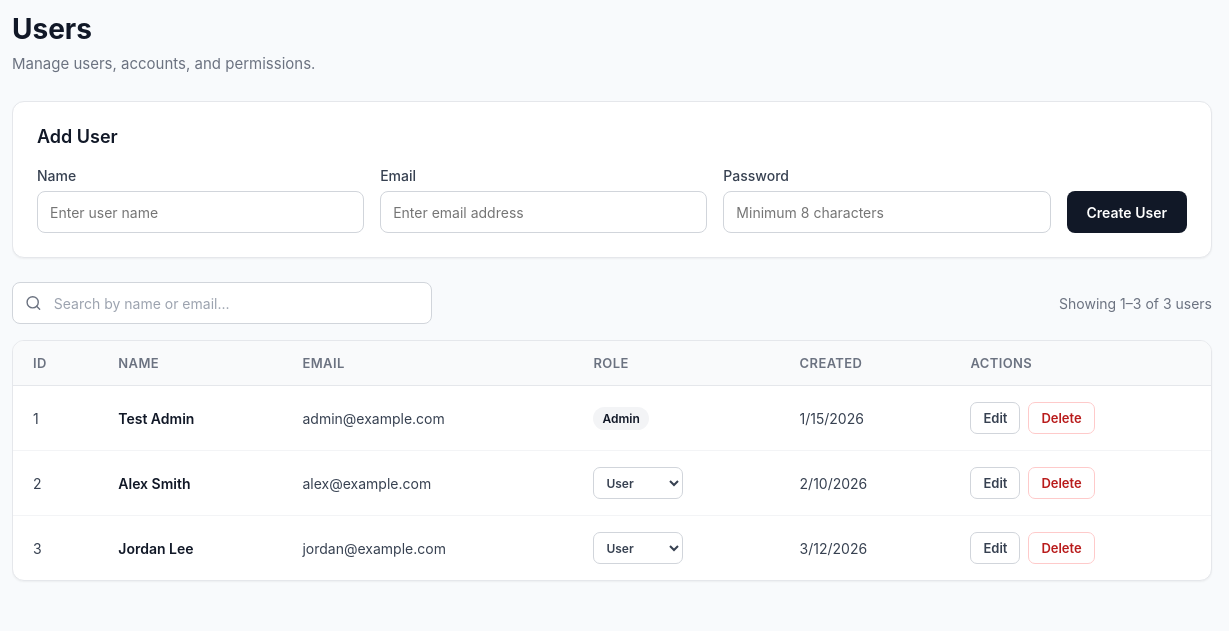
Users page › changes another user role after confirmation
This screenshot has width=1229, height=631.
Expected: the text "Alex Smith" is shown, [98,450,282,516]
Select "Admin" in the dropdown named "change role for alex smith" at (638, 483), box [593,467,683,499]
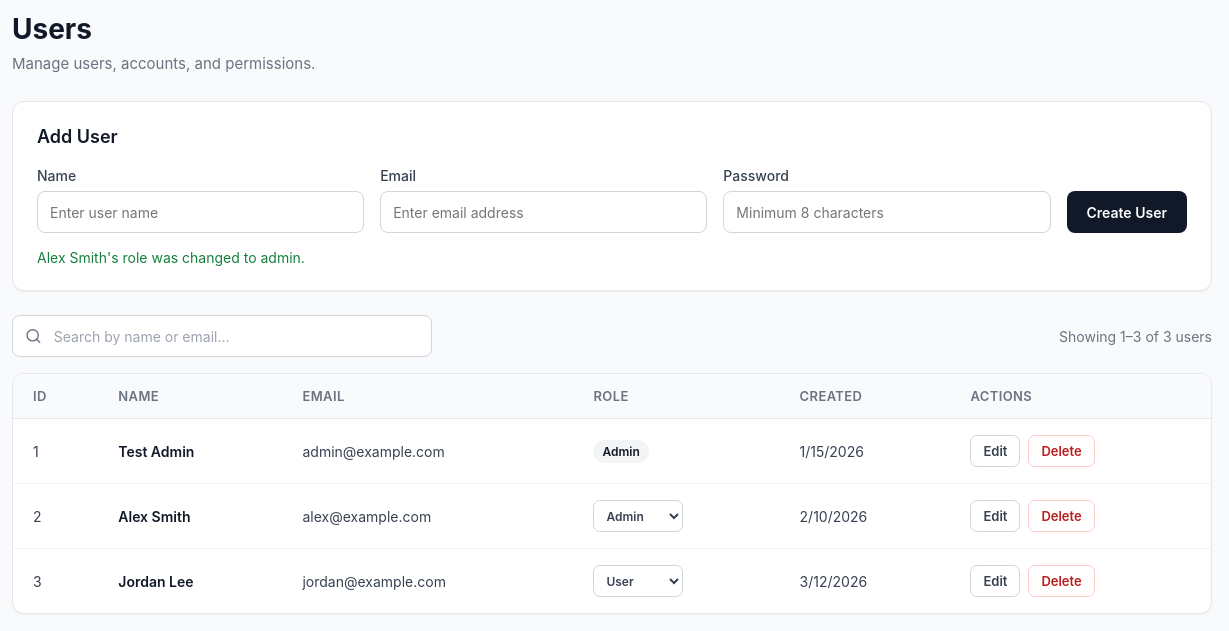
Expected: the text "Alex Smith's role was changed to admin." is shown, [37,249,305,266]
